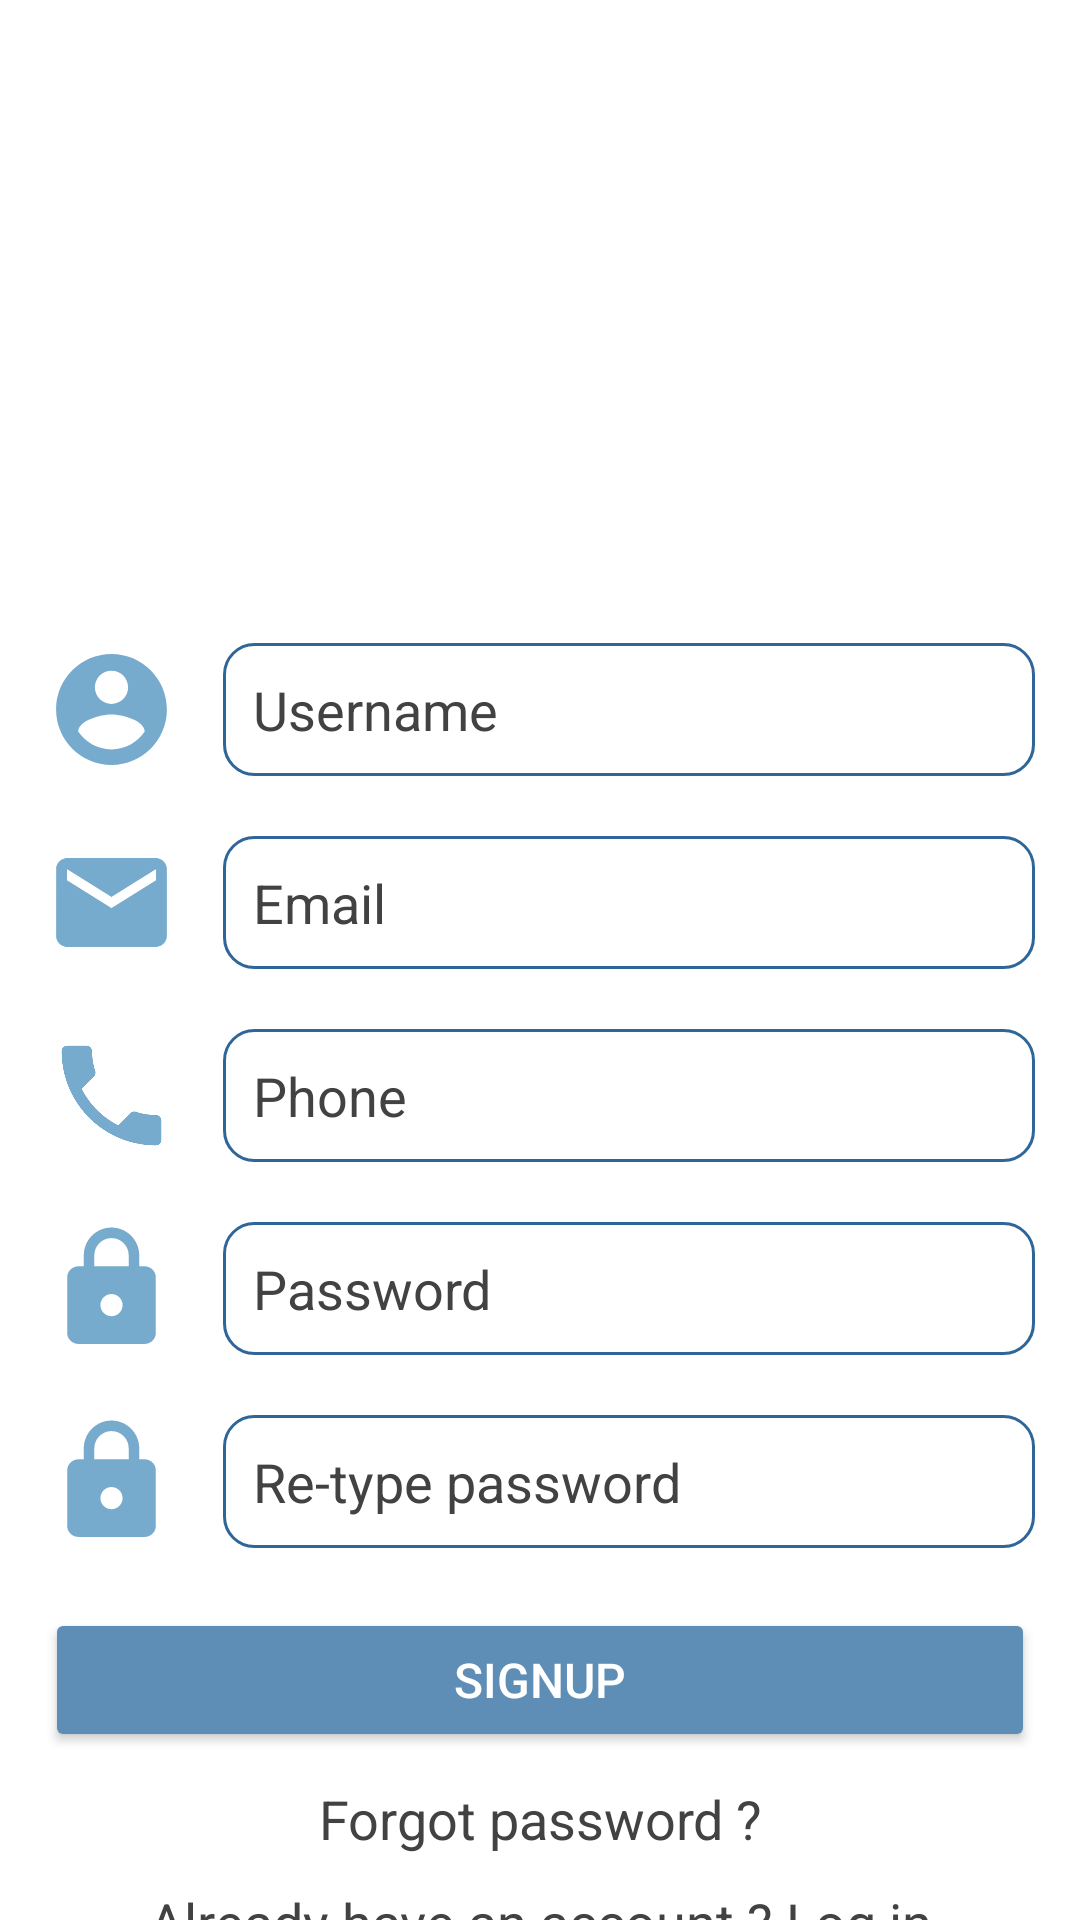

Icon click points for this 1080×1920 phone screenshot, format [x,y]:
lock: [111,1285], [111,1478]
